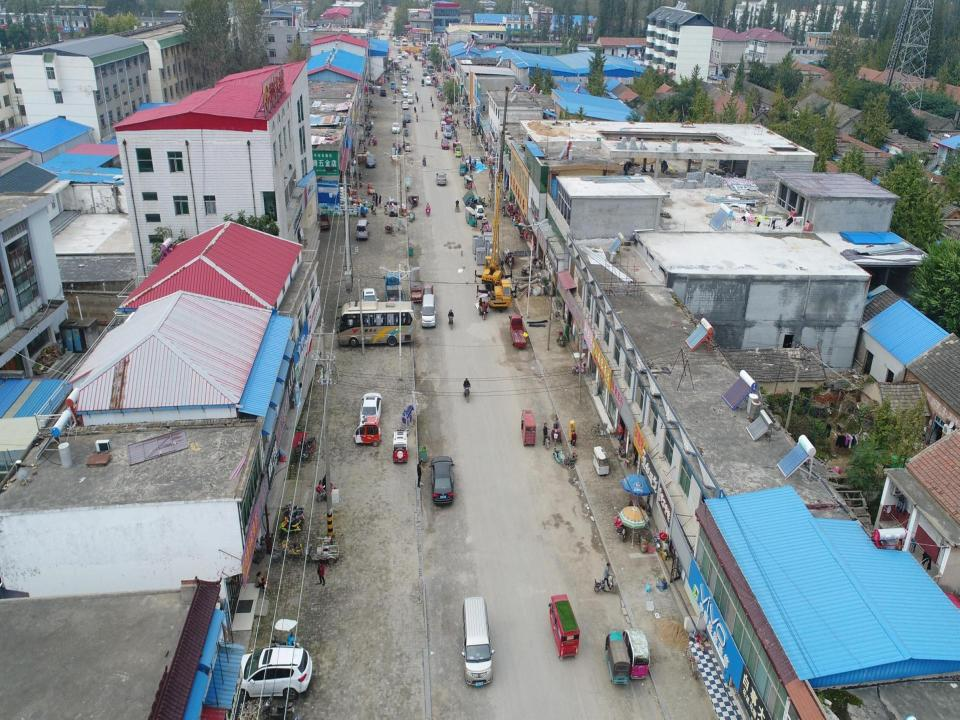bus: (336, 301, 418, 352), (426, 42, 441, 52)
car: (229, 644, 312, 702), (430, 452, 454, 505), (359, 392, 383, 426), (360, 285, 379, 321), (356, 217, 372, 239), (436, 171, 448, 187), (366, 153, 376, 168), (440, 138, 450, 149), (392, 122, 400, 134), (403, 111, 411, 123), (379, 88, 387, 98), (401, 100, 409, 110), (402, 89, 410, 98), (400, 85, 407, 93), (402, 78, 408, 86), (400, 72, 406, 80), (396, 53, 402, 60), (401, 50, 407, 57)
truck: (383, 272, 407, 311)
van: (460, 595, 496, 687), (420, 292, 438, 330), (443, 124, 451, 138), (406, 92, 414, 104), (425, 75, 432, 86), (402, 38, 410, 47), (422, 66, 428, 77), (392, 39, 401, 46), (402, 66, 408, 76), (405, 65, 410, 73), (392, 35, 397, 42)
